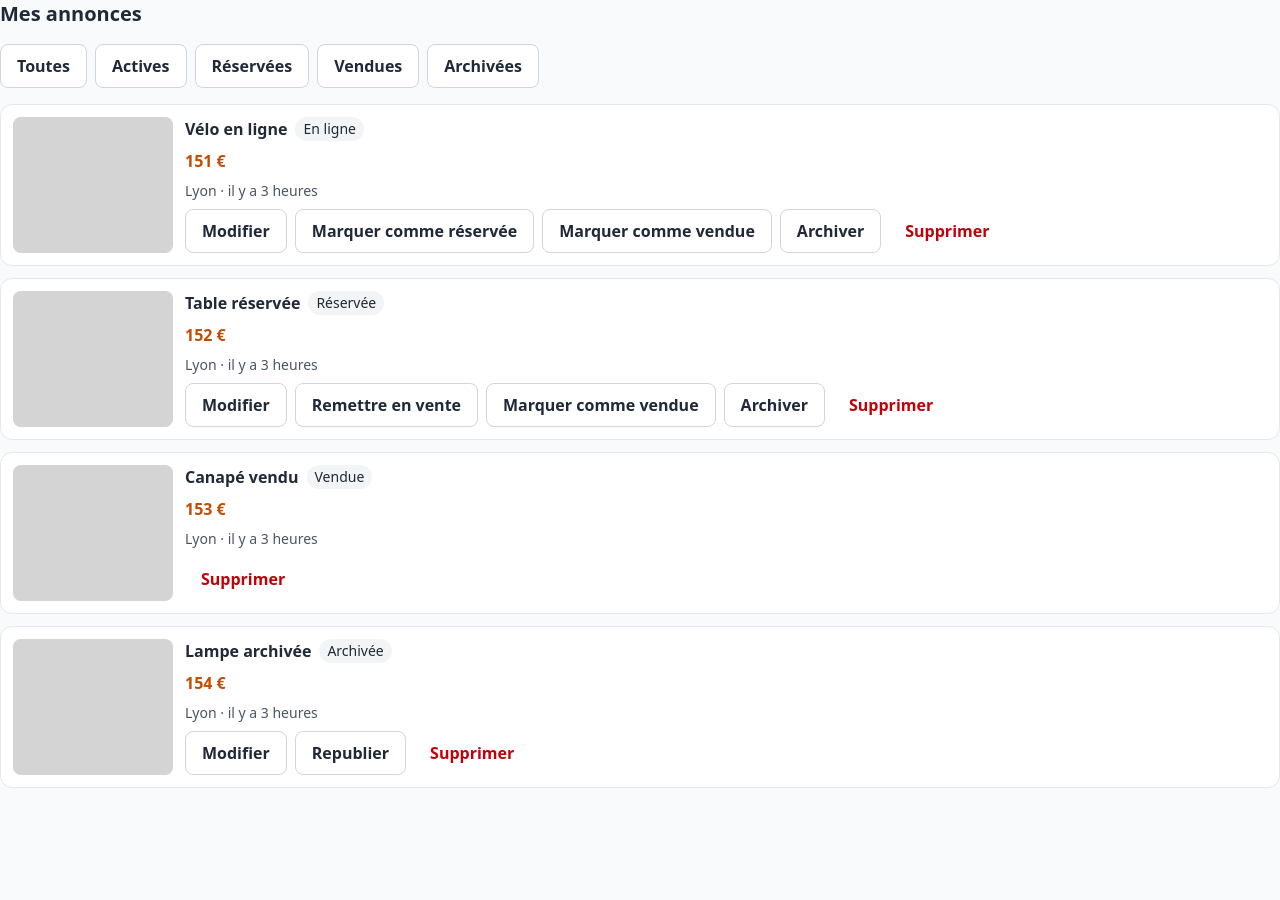
Test: Mes annonces : suppression › nomme l'annonce dans la confirmation
Check: the link "Vélo en ligne" is shown, box [185,117,288,141]
Click the 1st button "Supprimer" at (947, 231), box [889,209,1006,253]
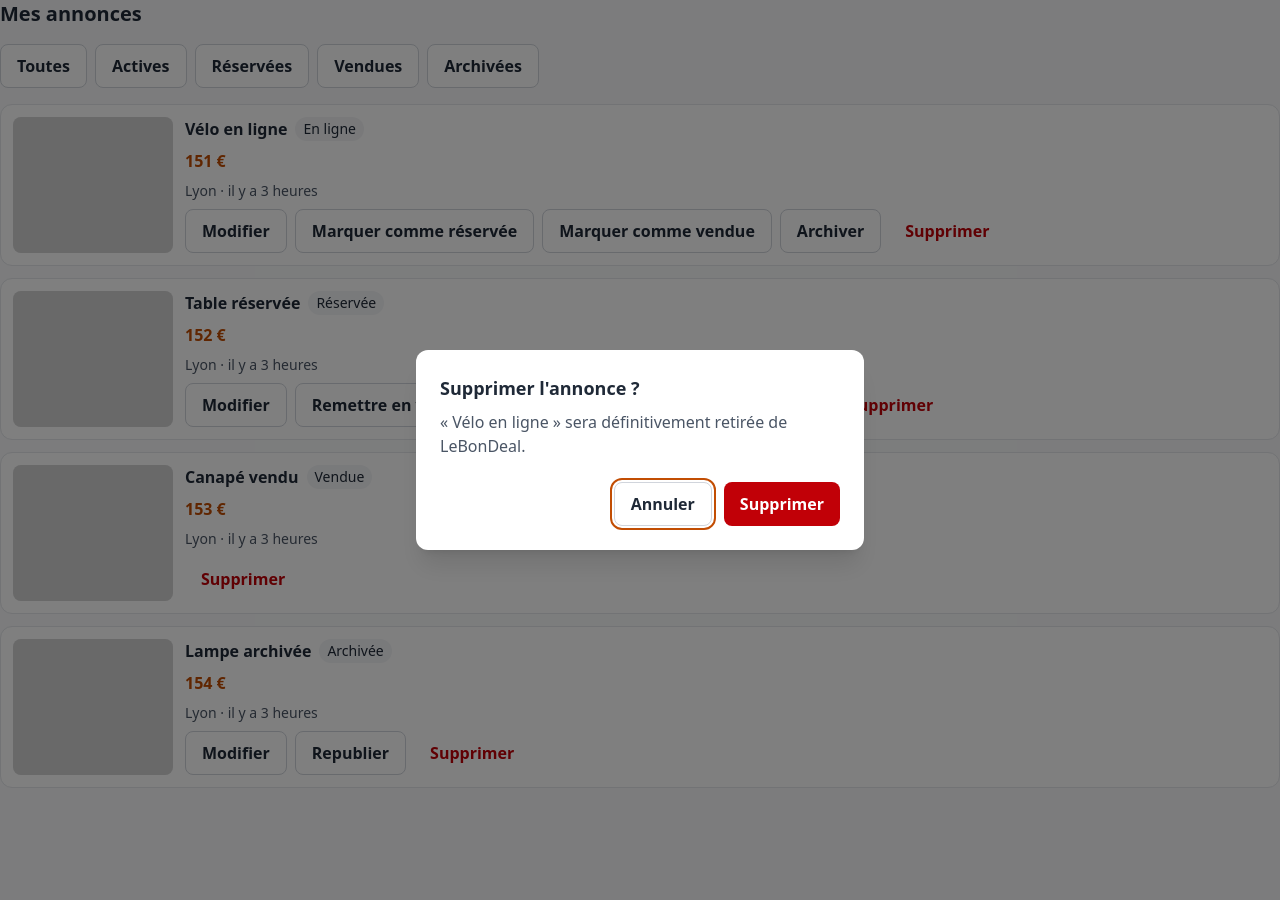
Check: the dialog shows "Vélo en ligne", box [440,411,787,457]
